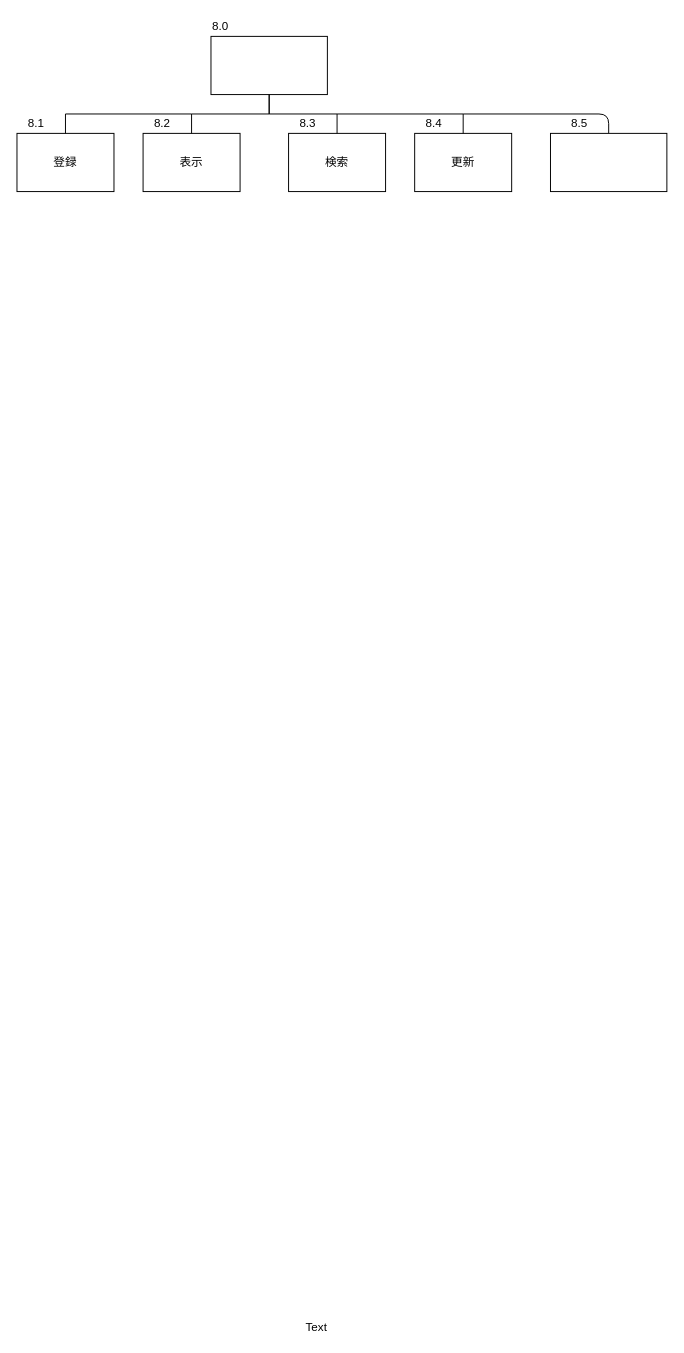
Image size: 684x1353. Some labels were removed from this diagram. The shapes that lost their labels are listed below. From the top down, each one's centre as x and y in pixels, then its label:
(x=268, y=65): 注文管理
(x=608, y=162): 印刷
